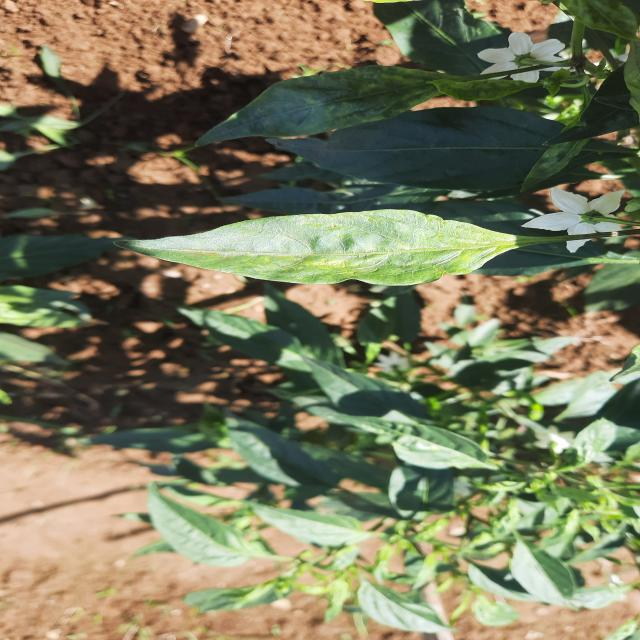thrips: (114, 210, 549, 291), (153, 59, 480, 141)
